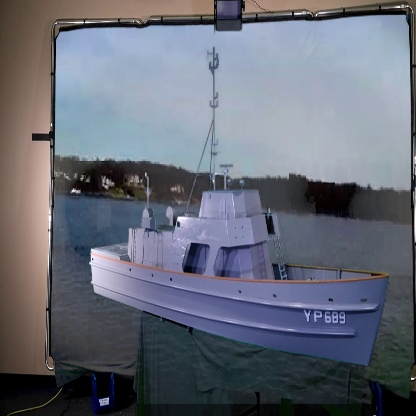YP689: (87, 47, 392, 368)
